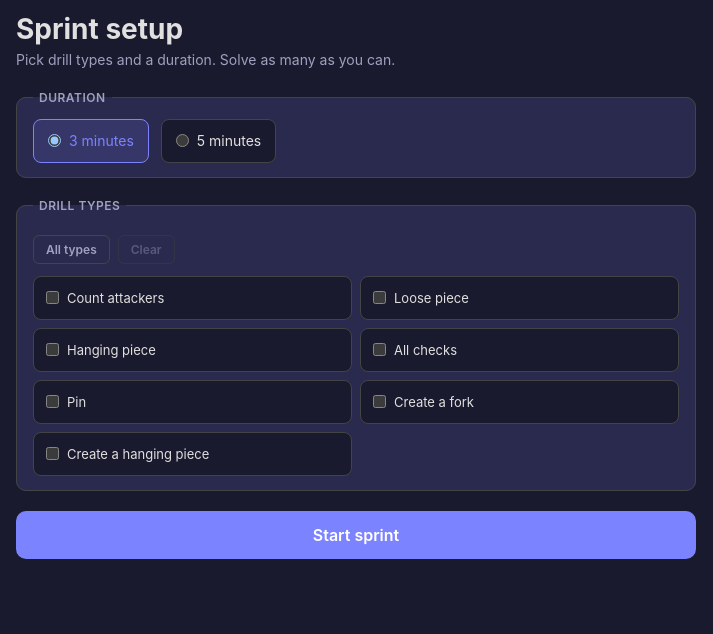
<DrillSprintSetupPage> KS-2241 › KS-2351 — timeout / network errors › REQUEST_TIMEOUT → error-баннер с data-error=timeout
Click the button with test id "drill-sprint-setup-start": (356,535) left=16, top=511, right=696, bottom=559
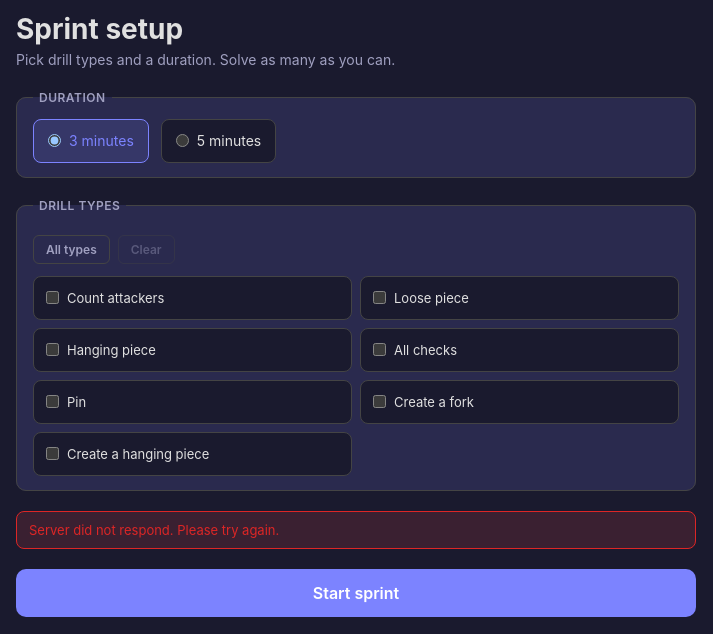
Check: the button with test id "drill-sprint-setup-start" is enabled, box left=16, top=569, right=696, bottom=617
Check: the message "Server did not respond. Please try again." is shown, box left=16, top=511, right=696, bottom=549
